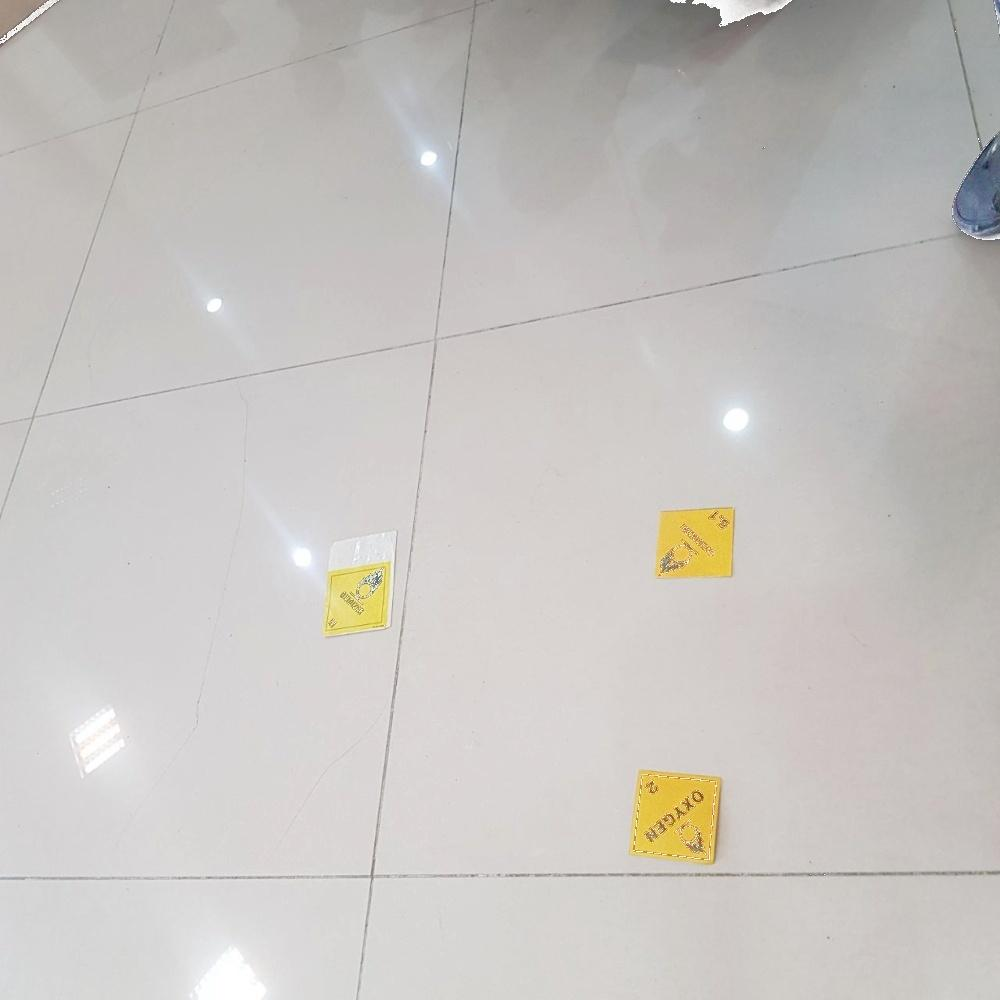oxidizer: (629, 770, 723, 865), (654, 505, 738, 586), (328, 562, 391, 638)
